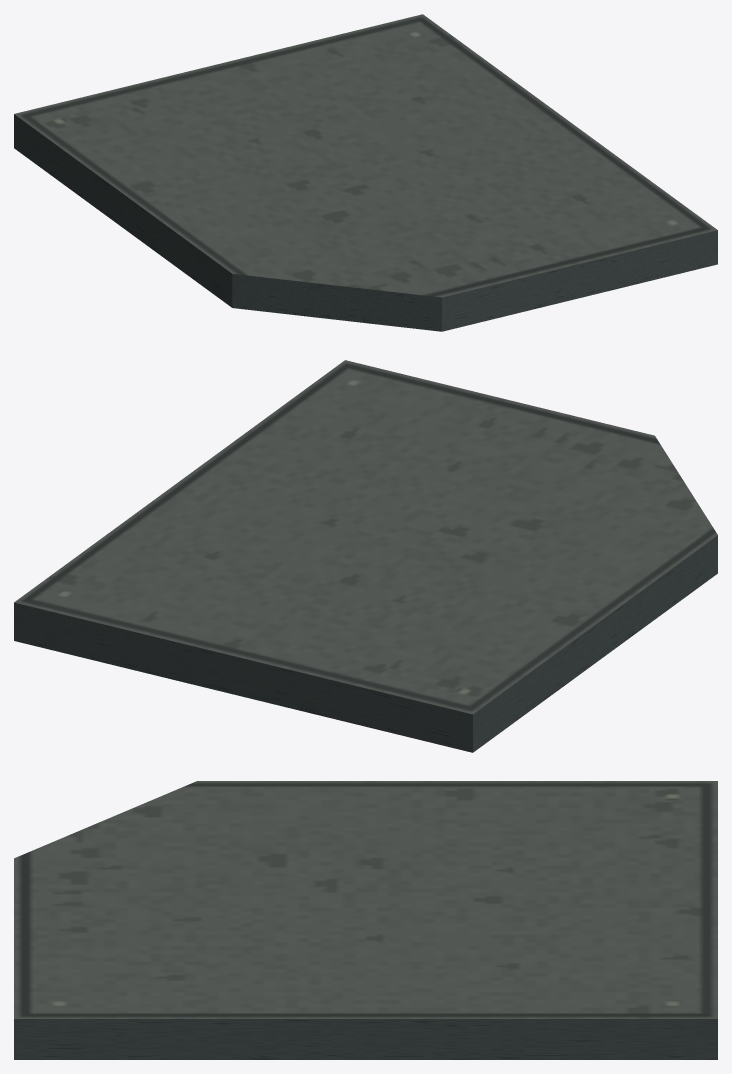
File: DeckCornerLeft.fbx
3 renders of one model, top to bottom at view 1: azimuth 30°, elevation 25°; view 2: azimuth 150°, elevation 25°; view 3: azimuth 270°, elevation 25°, orthographic. The views are drawn at different scales.
Visible parts, largest first — view 1: DeckCornerLeft; view 2: DeckCornerLeft; view 3: DeckCornerLeft.
Part boxes in pixels (bbox=[...]): DeckCornerLeft: bbox=[14, 14, 717, 331]; DeckCornerLeft: bbox=[14, 360, 717, 752]; DeckCornerLeft: bbox=[14, 781, 717, 1059].
Bounding box in the file's own units: 400 × 32 × 500.
